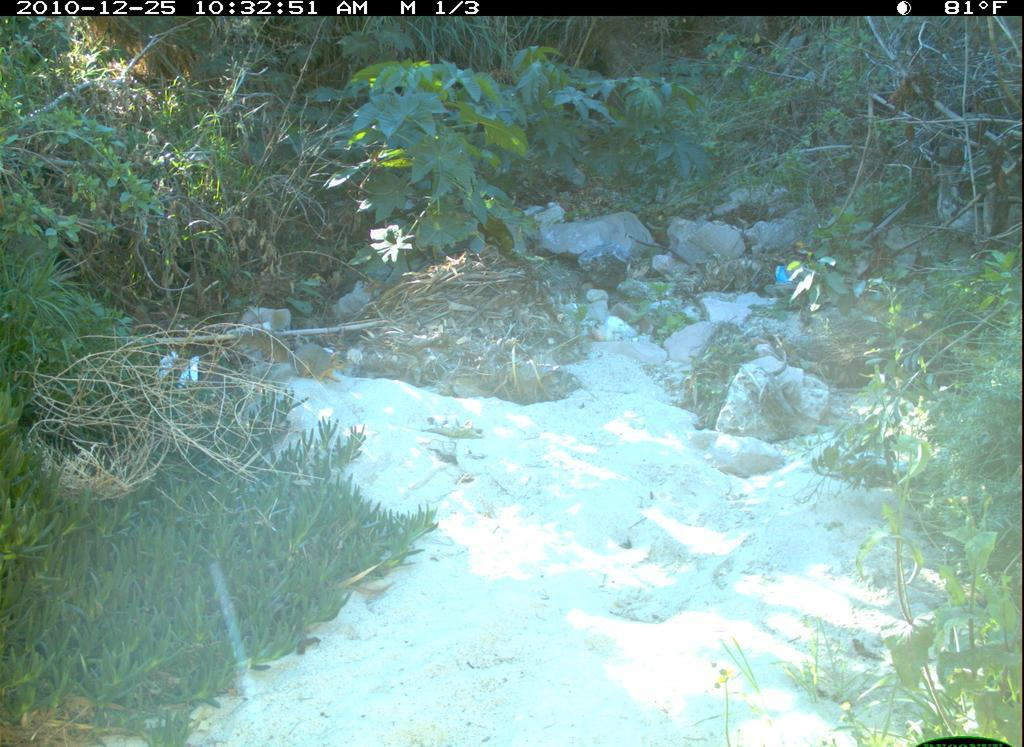squirrel: (265, 331, 354, 385)
